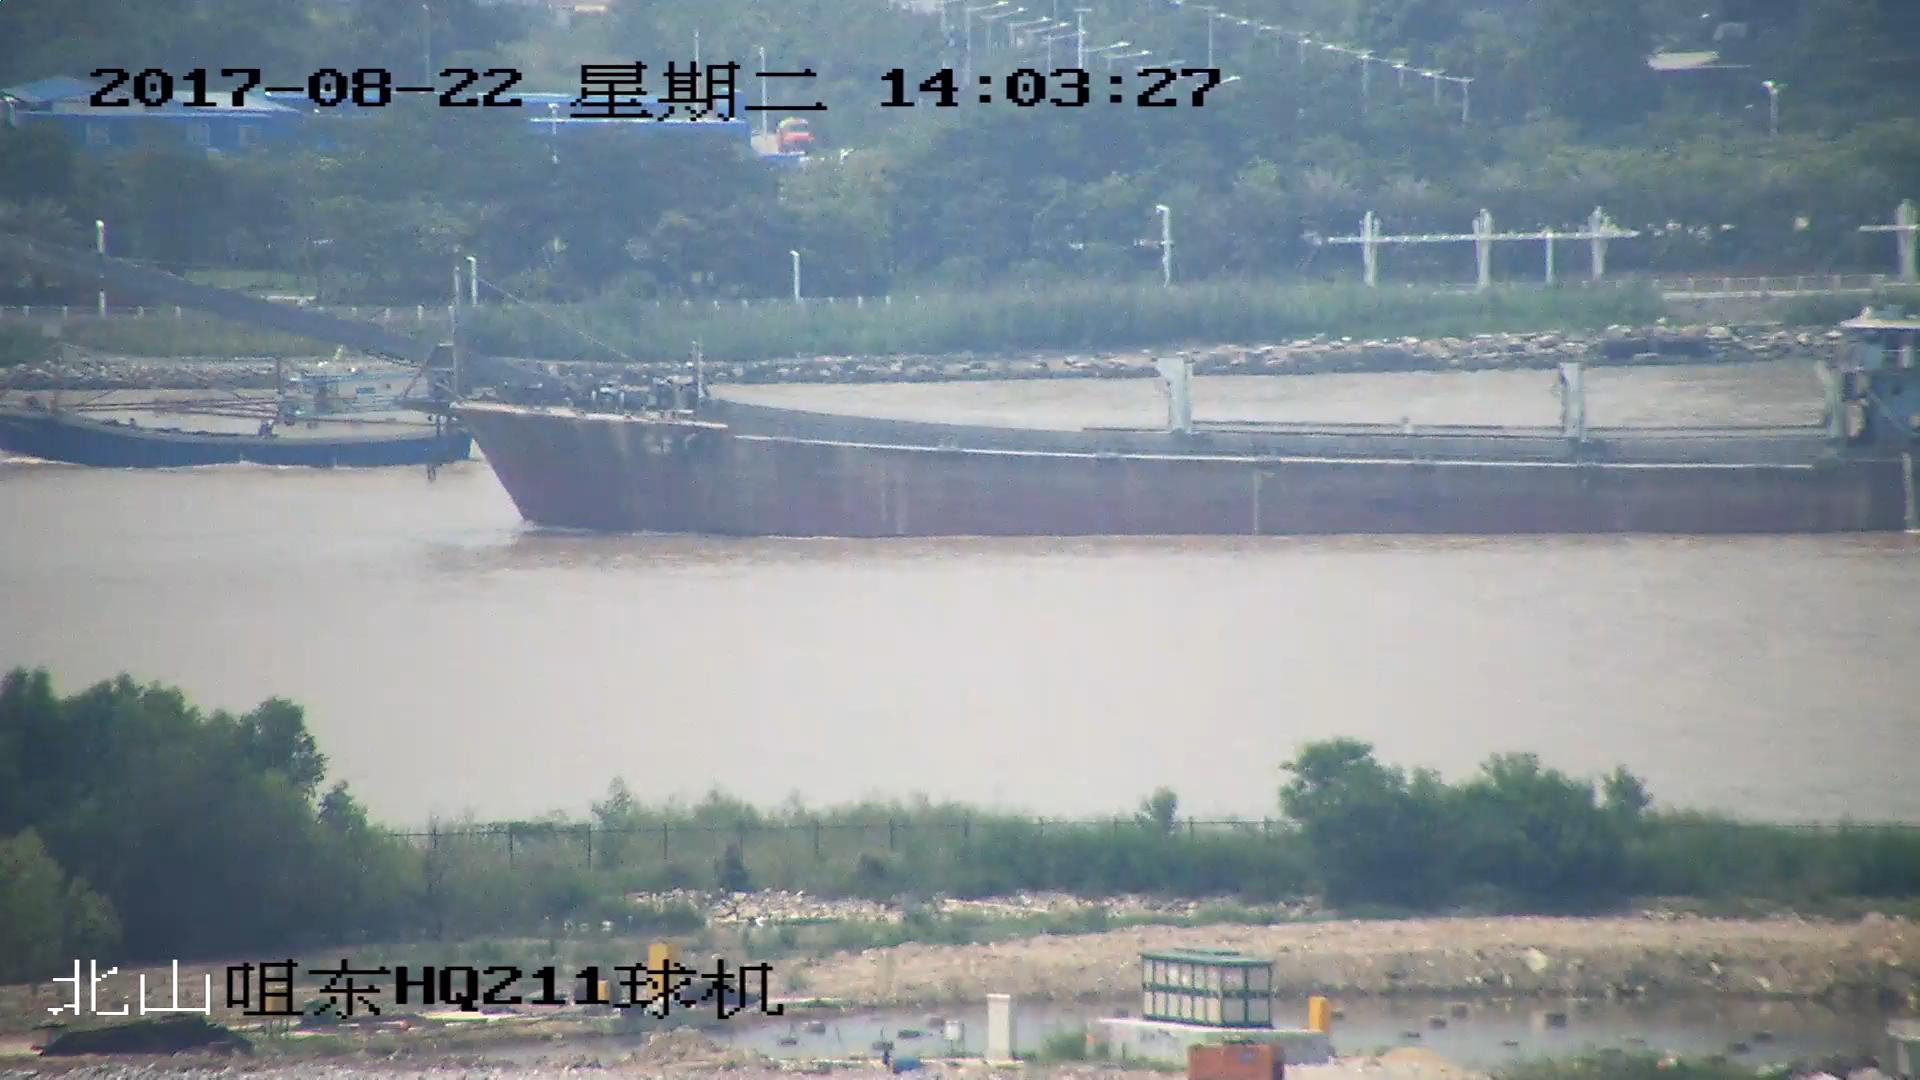bulk cargo carrier: (1, 242, 1920, 536)
fishing boat: (1, 360, 480, 465)
